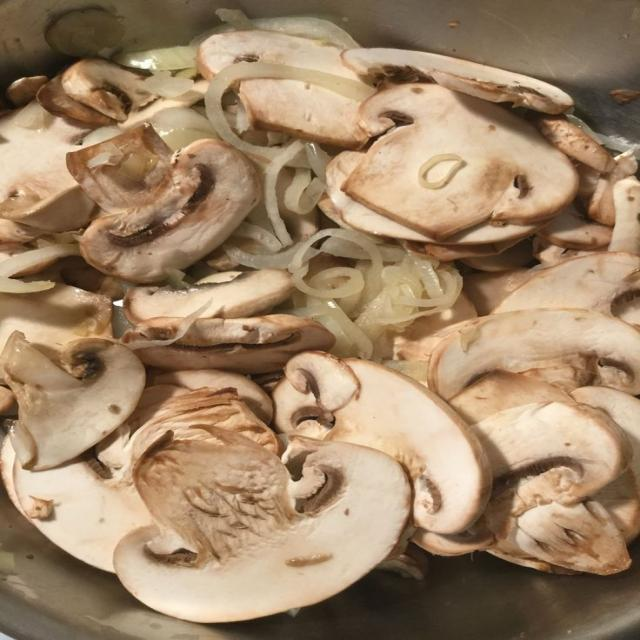champignon mushrooms: (114, 430, 410, 622), (273, 352, 490, 533), (342, 84, 577, 241), (414, 398, 631, 554), (80, 139, 259, 283), (1, 332, 145, 470), (2, 439, 151, 571), (428, 309, 639, 399), (471, 400, 632, 516), (342, 49, 573, 113), (122, 314, 335, 373), (0, 111, 94, 243), (131, 388, 283, 461), (489, 500, 631, 575), (571, 387, 639, 542), (319, 152, 433, 243), (320, 152, 431, 242), (67, 124, 172, 215), (494, 252, 639, 315), (124, 270, 293, 324), (0, 284, 112, 358), (198, 31, 360, 82), (571, 387, 639, 486), (449, 370, 571, 424), (154, 370, 273, 424), (61, 59, 156, 121), (394, 293, 477, 360), (534, 115, 615, 173), (120, 80, 208, 128), (37, 76, 113, 127), (594, 459, 639, 544), (588, 152, 638, 226), (538, 204, 612, 250), (463, 269, 534, 316), (609, 177, 639, 254), (462, 240, 533, 272), (409, 241, 517, 261), (534, 237, 601, 266), (7, 76, 47, 106), (0, 387, 15, 414)
